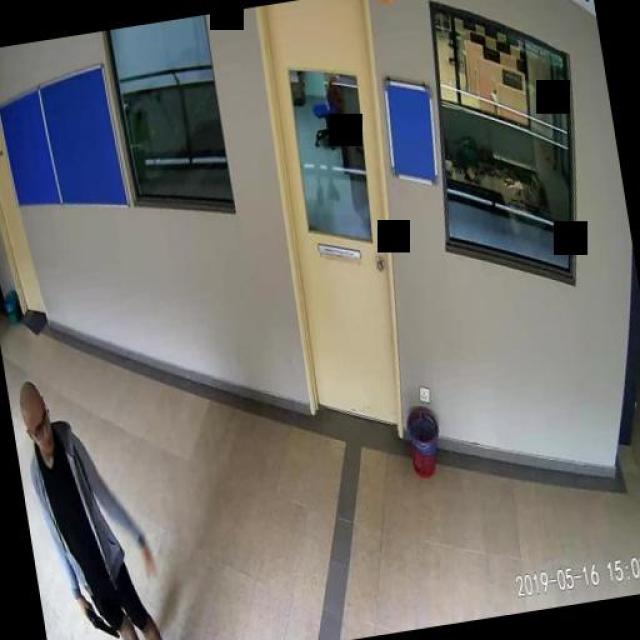gun: (81, 592, 118, 638)
